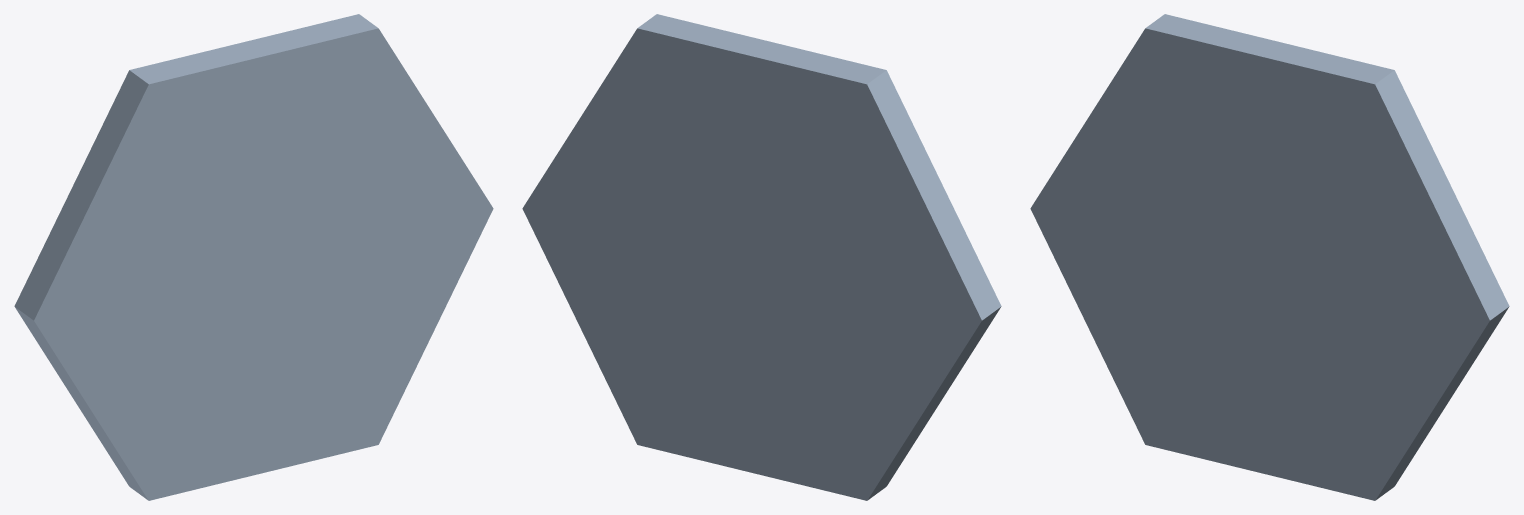
The model's file is hex_pad.glb.
3 renders of one model, left to right at view 1: azimuth 30°, elevation 25°; view 2: azimuth 150°, elevation 25°; view 3: azimuth 330°, elevation 25°, orthographic.
Parts seen in each view (by area): view 1: world; view 2: world; view 3: world.
Part boxes in pixels (box(x1,y1,x2,y2)): world: box(14, 14, 493, 500); world: box(522, 14, 1001, 500); world: box(1030, 14, 1509, 500).
Size of the model in its own units: 2.44 by 2.11 by 0.18.
